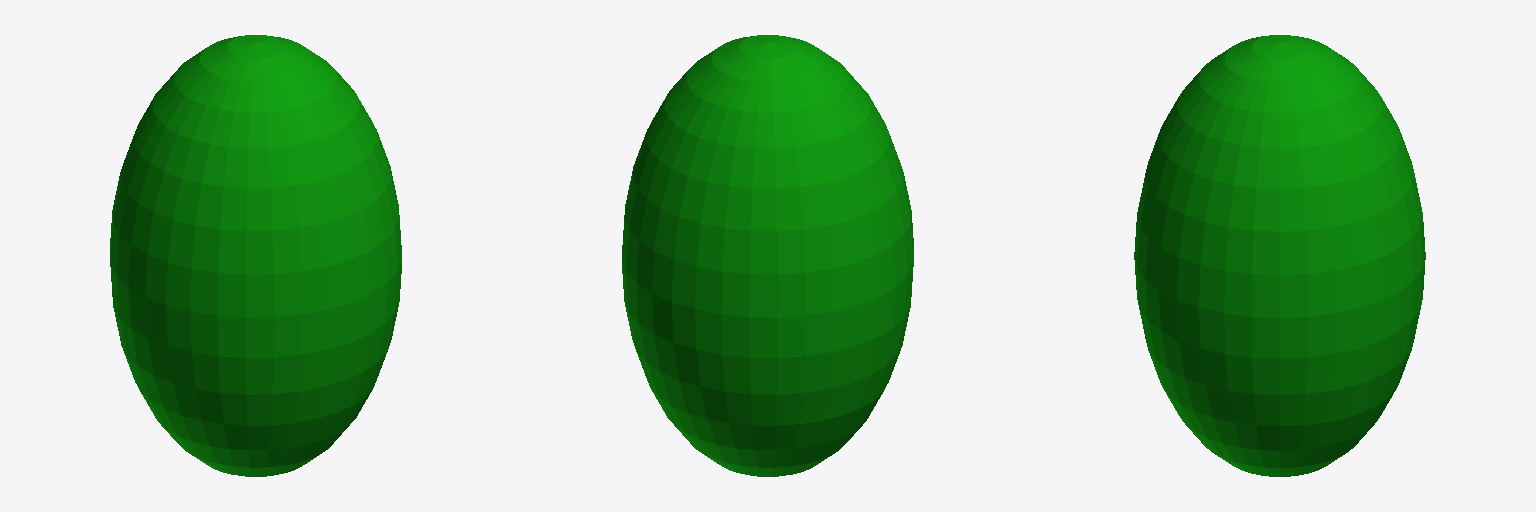
The model's file is moya_freg_g.obj.
The picture shows the model from 3 angles: view 1: azimuth 30°, elevation 25°; view 2: azimuth 150°, elevation 25°; view 3: azimuth 270°, elevation 25°; orthographic projection.
Visible parts, largest first — view 1: Sphere_Sphere.005_Sphere_Sphere.006; view 2: Sphere_Sphere.005_Sphere_Sphere.006; view 3: Sphere_Sphere.005_Sphere_Sphere.006.
Boxes of the visible parts, x1,y1,x2,y2 form: Sphere_Sphere.005_Sphere_Sphere.006: [110, 35, 401, 476]; Sphere_Sphere.005_Sphere_Sphere.006: [622, 35, 913, 476]; Sphere_Sphere.005_Sphere_Sphere.006: [1134, 35, 1425, 476].
Size of the model in its own units: 0.6891 by 1.1 by 0.6826.